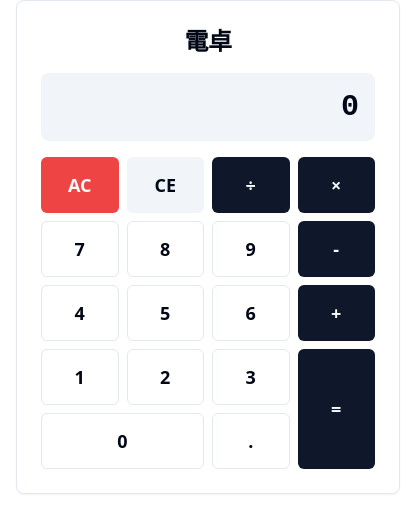
Scenario: Calculator Component Integration Tests › Basic Number Input › should concatenate multiple digits
Click the button "1": (80, 377) [41,349,118,405]
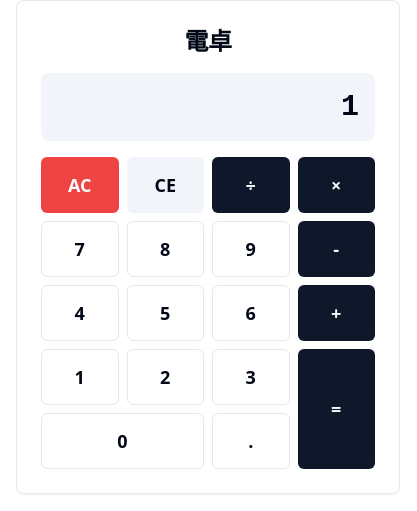
Click the button "2": (165, 377) [126,349,204,405]
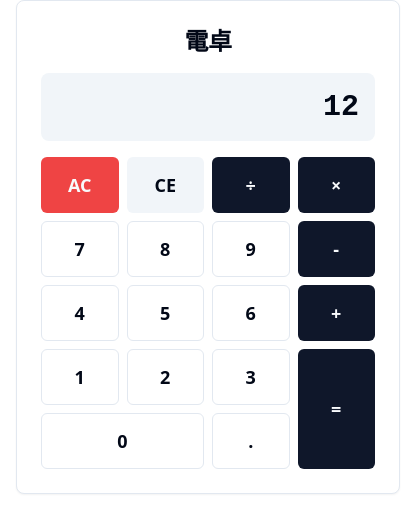
Click the button "3": (251, 377) [212,349,290,405]
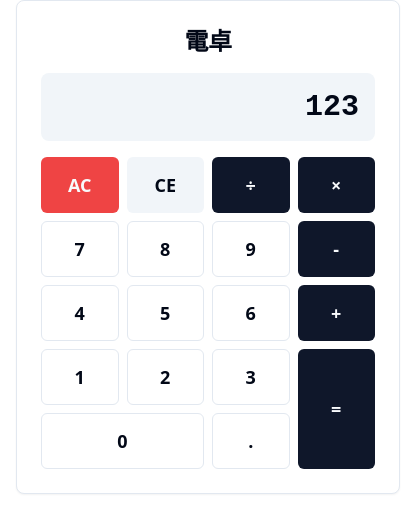
Expected: the text "123" is shown, [305,90,359,124]
